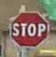stop: (6, 9, 50, 48)
